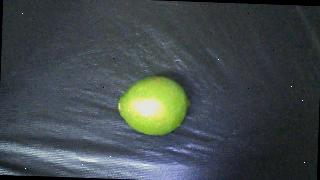LOCAL: (117, 74, 191, 136)
